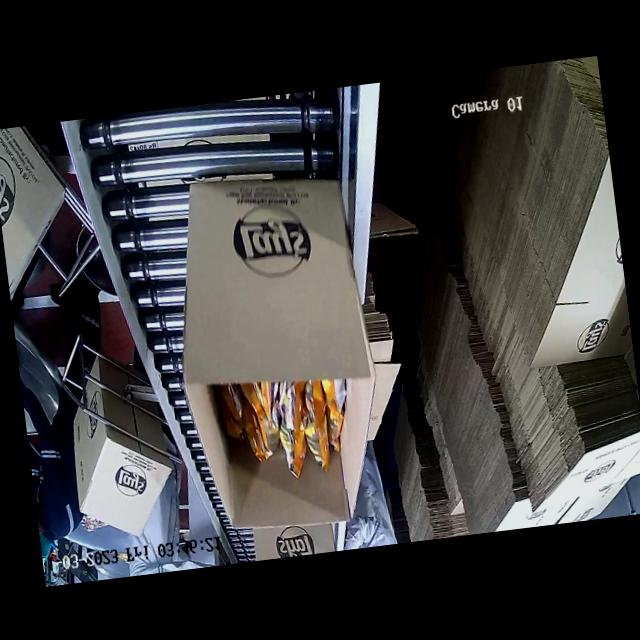cheese: (230, 374, 348, 468)
